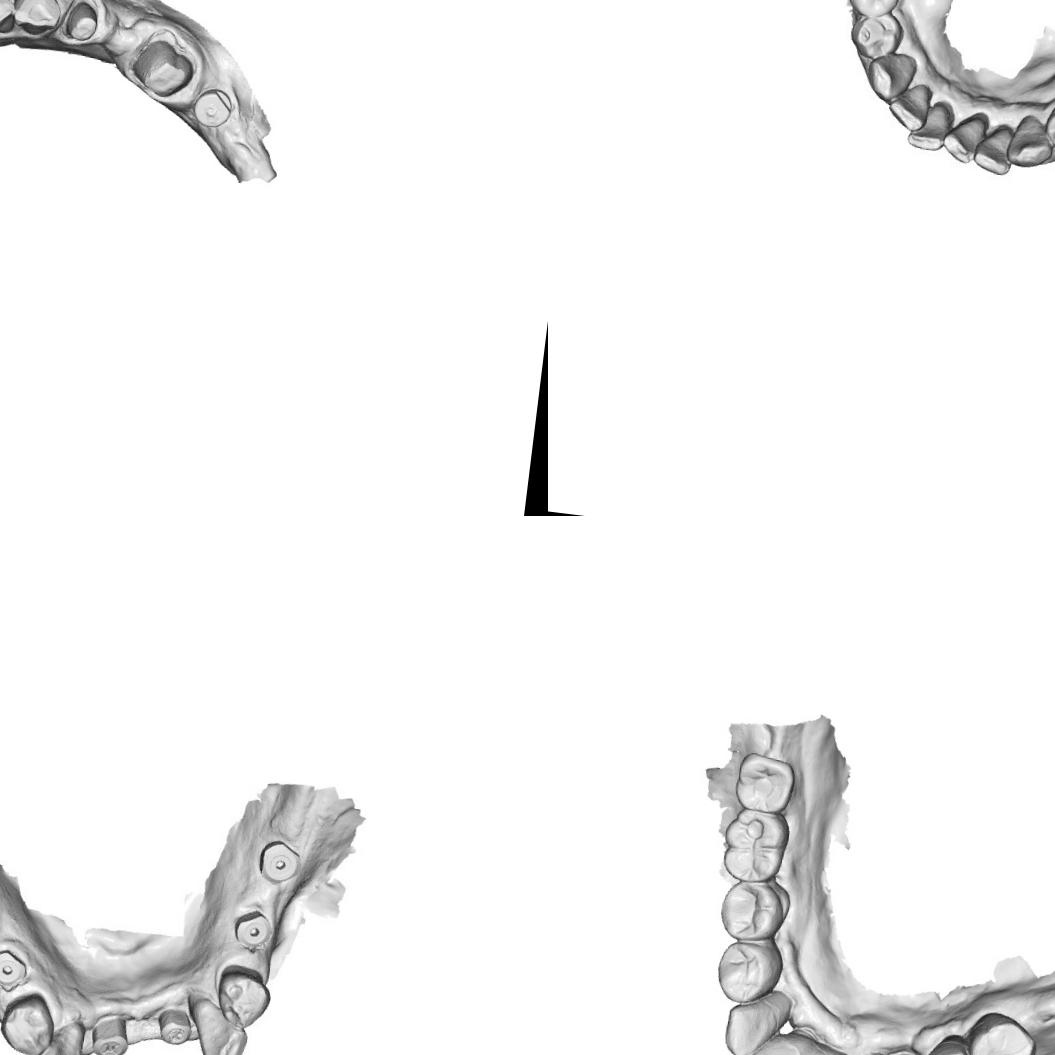canine: (719, 995, 781, 1055), (187, 998, 250, 1055), (861, 48, 918, 103), (1004, 113, 1055, 172), (8, 0, 64, 39), (35, 1023, 92, 1055)
crown: (127, 34, 199, 103), (60, 0, 102, 45)
implant: (227, 903, 282, 954), (254, 837, 302, 889), (188, 83, 238, 132), (156, 1003, 196, 1048), (0, 947, 30, 991)
implant_plus: (91, 1014, 131, 1055)
incisor: (907, 102, 960, 154), (940, 112, 984, 167), (972, 126, 1014, 178), (886, 80, 930, 126), (735, 1032, 802, 1055), (0, 0, 19, 37)
molar: (718, 805, 793, 886), (728, 750, 800, 816)
premolar: (710, 936, 786, 1010), (714, 876, 788, 944), (212, 962, 276, 1030), (958, 1007, 1040, 1055), (0, 990, 60, 1055), (847, 12, 901, 61), (909, 1034, 992, 1055), (850, 0, 898, 15)
